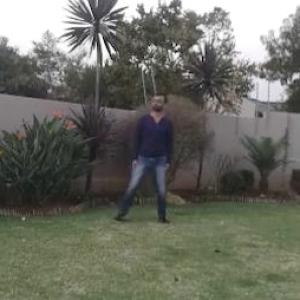follow: (133, 82, 175, 222)
